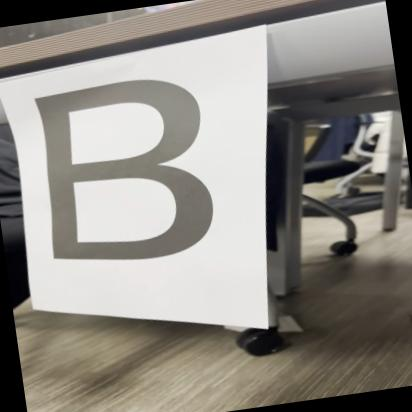seat: (18, 60, 238, 279)
